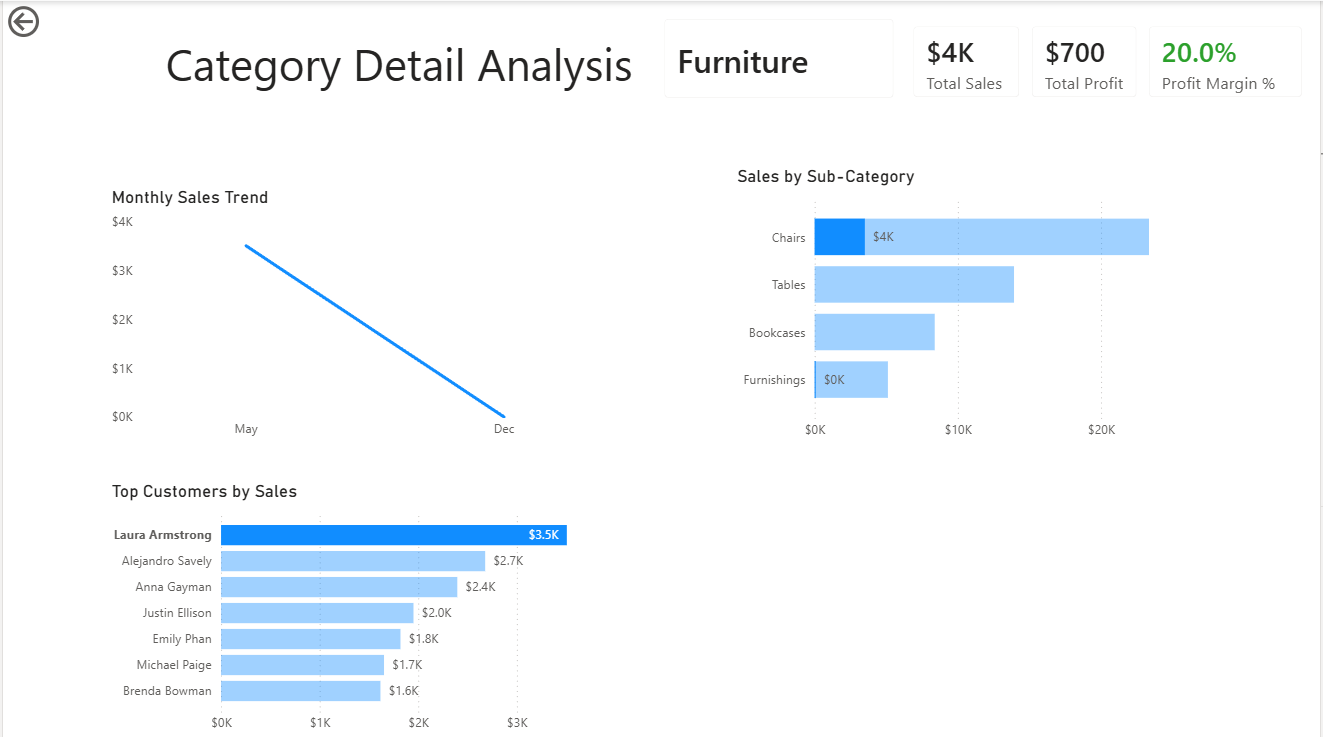

Layout of this report page (visuals, bound fields, positions):
{"tool":"powerbi","page":{"name":"Category Details","canvas":[1280,720],"ordinal":1},"visuals":[{"type":"actionButton","box":[0,0,100,40],"z":0},{"type":"textbox","box":[153.1,26.5,514,177.6],"z":1000},{"type":"cardVisual","fields":{"Data":["Dim_Date.Selected Category"]},"box":[625.5,0,257,111.5],"z":2000},{"type":"clusteredBarChart","title":"Sales by Sub-Category","fields":{"Category":["ecommerce_project superstore.sub_category"],"Y":["_All Measures.Total Sales"]},"box":[708.7,160.6,457.3,274],"z":3000},{"type":"clusteredBarChart","title":"Top Customers by Sales","fields":{"Category":["ecommerce_project superstore.customer_name"],"Y":["_All Measures.Total Sales"]},"box":[100.2,466.8,491.3,253.2],"z":4000},{"type":"lineChart","title":"Monthly Sales Trend","fields":{"Category":["Dim_Date.Month Name"],"Y":["_All Measures.Total Sales"]},"box":[100.2,181.4,491.3,253.2],"z":5000},{"type":"cardVisual","fields":{"Data":["_All Measures.Total Sales"]},"box":[867.4,7.6,138,103.9],"z":6000},{"type":"cardVisual","fields":{"Data":["_All Measures.Total Profit"]},"box":[982.7,7.6,136.1,103.9],"z":7000},{"type":"cardVisual","fields":{"Data":["_All Measures.Profit Margin %"]},"box":[1096.1,7.6,183.3,103.9],"z":8000}]}

Visuals, with their boxes in screenshot pixels (x1, y1, x2, y2), scaled from the page's 1280x720 canvas onto the 1323x737 screenshot:
actionButton: x1=0 y1=0 x2=103 y2=41
textbox: x1=158 y1=27 x2=690 y2=209
cardVisual - Dim_Date.Selected Category: x1=647 y1=0 x2=912 y2=114
"Sales by Sub-Category" clusteredBarChart: x1=733 y1=164 x2=1205 y2=445
"Top Customers by Sales" clusteredBarChart: x1=104 y1=478 x2=611 y2=736
"Monthly Sales Trend" lineChart: x1=104 y1=186 x2=611 y2=445
cardVisual - _All Measures.Total Sales: x1=897 y1=8 x2=1039 y2=114
cardVisual - _All Measures.Total Profit: x1=1016 y1=8 x2=1156 y2=114
cardVisual - _All Measures.Profit Margin %: x1=1133 y1=8 x2=1322 y2=114
